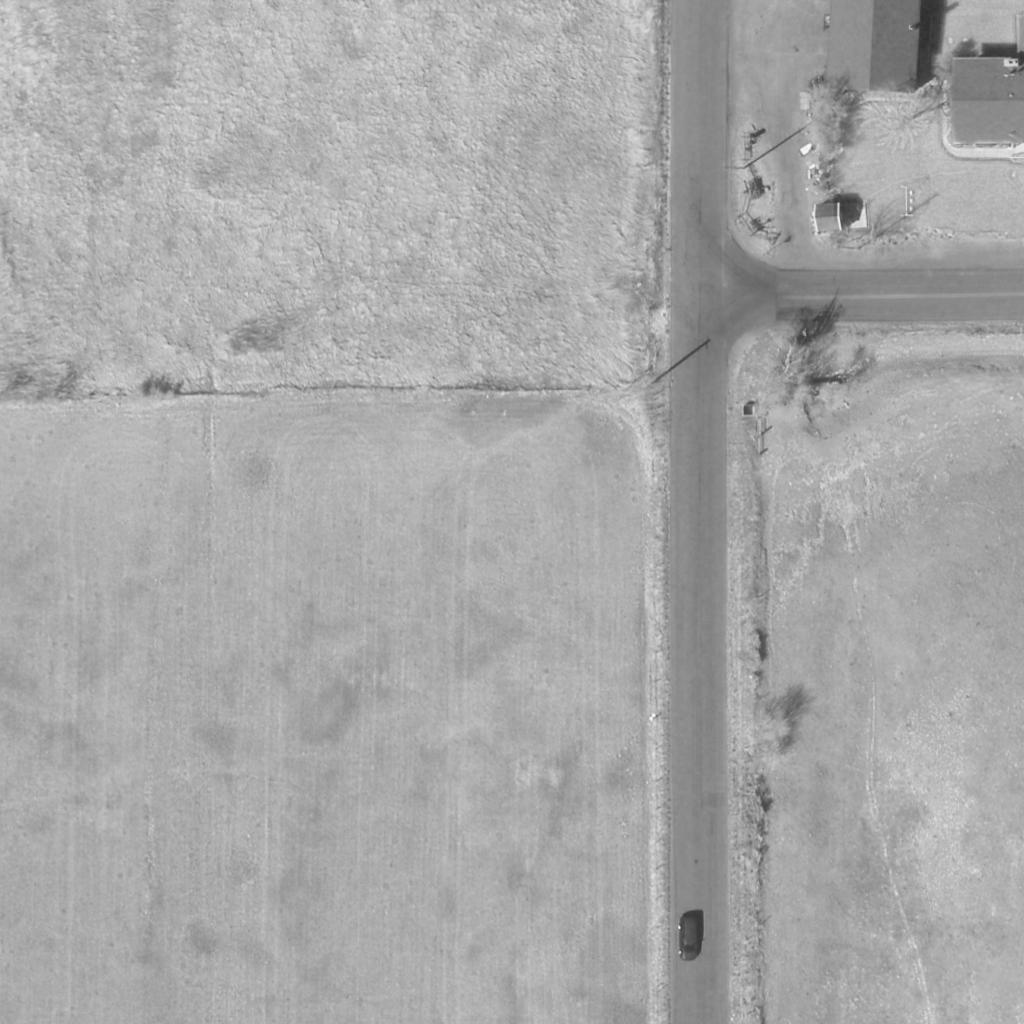vehicle: (679, 914, 699, 964)
